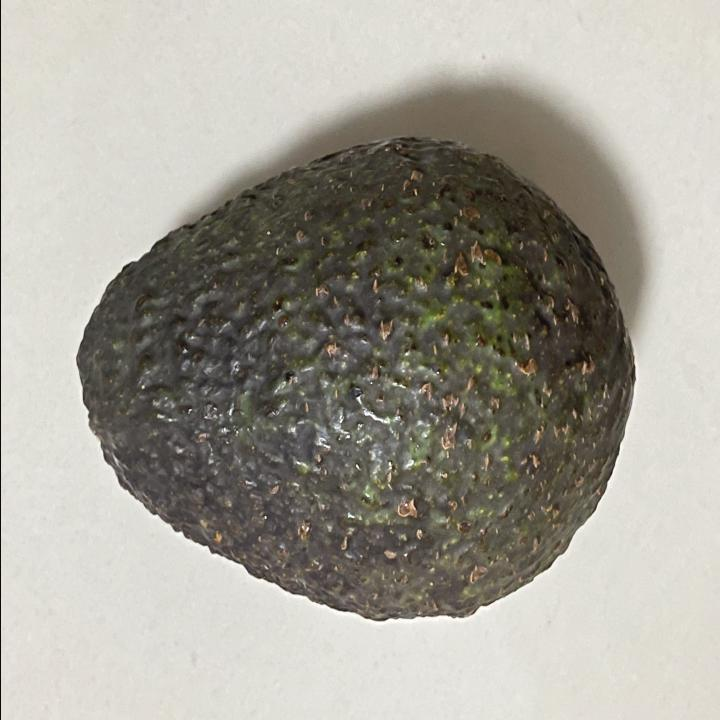Level2: (73, 129, 641, 630)
